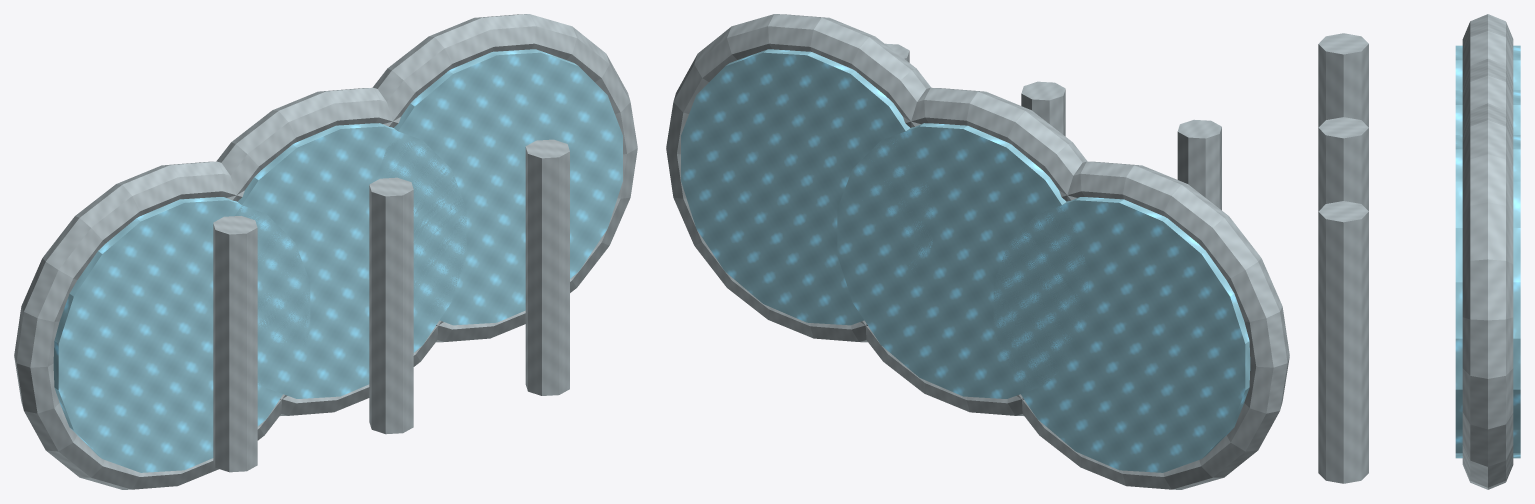
Rendered from underworld-refined-iceglass-lens.glb.
3 views of the same model, side by side, from view 1: azimuth 30°, elevation 25°; view 2: azimuth 150°, elevation 25°; view 3: azimuth 270°, elevation 25° (orthographic). The views are drawn at different scales.
Parts seen in each view (by area): view 1: lens-0, lens-2, lens-1, lens-frame-0, lens-frame-2, lens-prong-1, lens-prong-2, lens-prong-0, lens-frame-1; view 2: lens-0, lens-1, lens-2, lens-frame-0, lens-frame-2, lens-frame-1, lens-prong-0, lens-prong-1; view 3: lens-frame-2, lens-prong-2, lens-2, lens-prong-0, lens-prong-1, lens-frame-0, lens-frame-1, lens-0, lens-1.
Boxes of the visible parts, x1,y1,x2,y2 form: lens-0: (53,197,310,472); lens-2: (376,49,622,325); lens-1: (235,123,466,398); lens-frame-0: (14,161,287,489); lens-frame-2: (373,14,637,342); lens-prong-1: (369,177,413,434); lens-prong-2: (525,139,569,395); lens-prong-0: (213,216,257,472); lens-frame-1: (216,87,443,415); lens-0: (993,197,1250,472); lens-1: (837,123,1088,398); lens-2: (681,49,932,325); lens-frame-0: (1016,161,1289,489); lens-frame-2: (666,14,930,342); lens-frame-1: (860,87,1087,415); lens-prong-0: (1177,119,1221,210); lens-prong-1: (1021,81,1065,136); lens-frame-2: (1462,103,1513,489); lens-prong-2: (1318,201,1368,483); lens-2: (1455,135,1520,458); lens-prong-0: (1318,33,1368,127); lens-prong-1: (1318,117,1368,211); lens-frame-0: (1462,14,1513,83); lens-frame-1: (1462,58,1513,127); lens-0: (1455,45,1520,90); lens-1: (1455,90,1520,134).
Bounding box in the file's own units: 0.218 × 0.132 × 0.056.
Materials: 2 (2 with a texture image).
